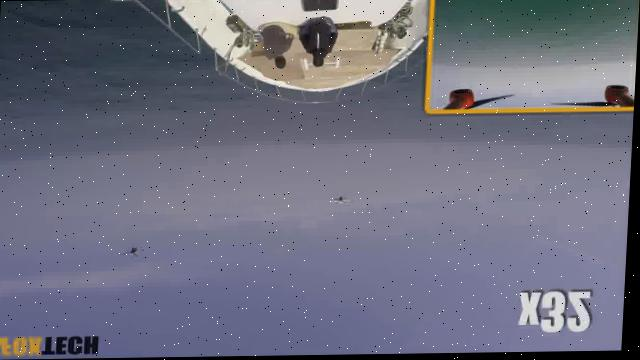drone: (121, 238, 149, 264), (325, 191, 355, 211)
